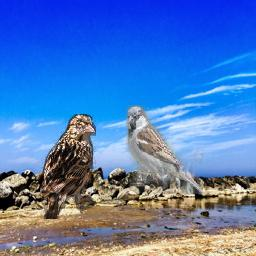Sparrow: (127, 106, 204, 195), (40, 115, 97, 220)
